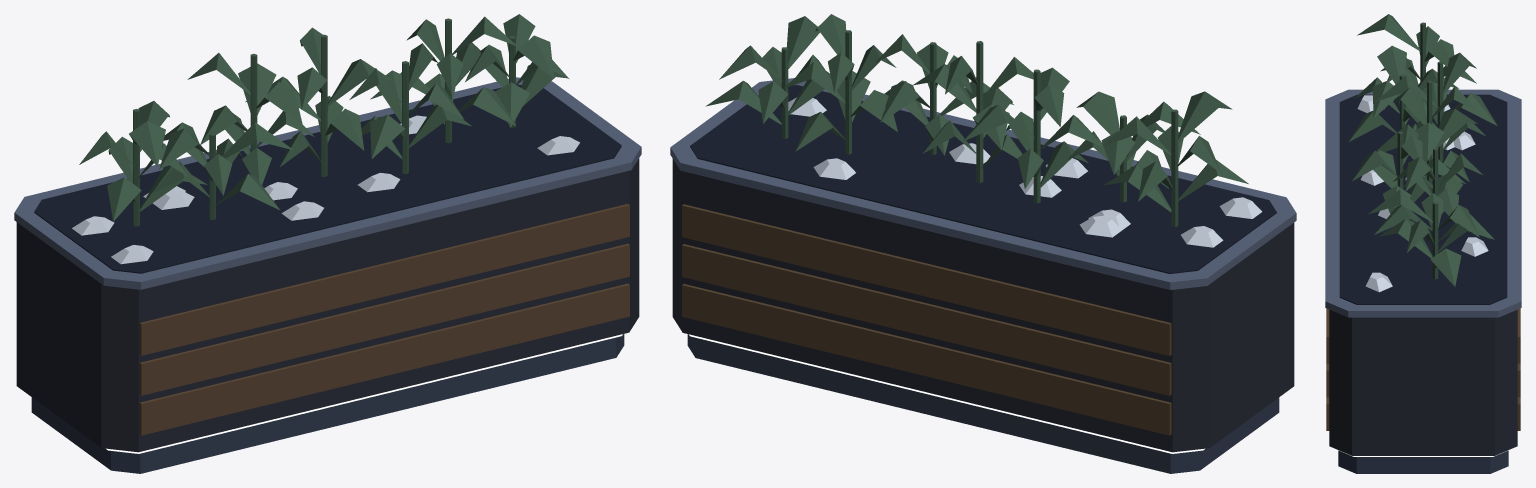
File: off_office_planter.glb
3 renders of one model, left to right at view 1: azimuth 30°, elevation 25°; view 2: azimuth 150°, elevation 25°; view 3: azimuth 270°, elevation 25°, orthographic. The views are drawn at different scales.
Parts seen in each view (by area): view 1: trough, walnut_course, soil, cane, rim, recessed_foot, river_stone, base_lantern; view 2: trough, walnut_course, soil, cane, rim, recessed_foot, river_stone, base_lantern; view 3: trough, soil, cane, rim, recessed_foot, river_stone, walnut_course.
Boxes of the visible parts, <box> form: trough: <box>16,158,639,452</box>; walnut_course: <box>139,204,629,435</box>; soil: <box>34,84,621,273</box>; cane: <box>79,14,569,226</box>; rim: <box>14,77,641,289</box>; recessed_foot: <box>31,334,624,473</box>; river_stone: <box>72,115,579,264</box>; base_lantern: <box>106,334,622,453</box>; trough: <box>672,159,1294,452</box>; walnut_course: <box>682,204,1171,435</box>; soil: <box>690,85,1276,273</box>; cane: <box>705,14,1248,226</box>; rim: <box>670,78,1296,289</box>; recessed_foot: <box>687,334,1279,473</box>; river_stone: <box>788,97,1262,247</box>; base_lantern: <box>689,334,1204,453</box>; trough: <box>1329,309,1517,455</box>; soil: <box>1339,94,1507,304</box>; cane: <box>1348,14,1497,286</box>; rim: <box>1325,89,1521,317</box>; recessed_foot: <box>1338,450,1508,473</box>; river_stone: <box>1357,95,1488,292</box>; walnut_course: <box>1326,308,1520,430</box>.
Bounding box in the file's own units: 2.4 × 1.45 × 0.9.
